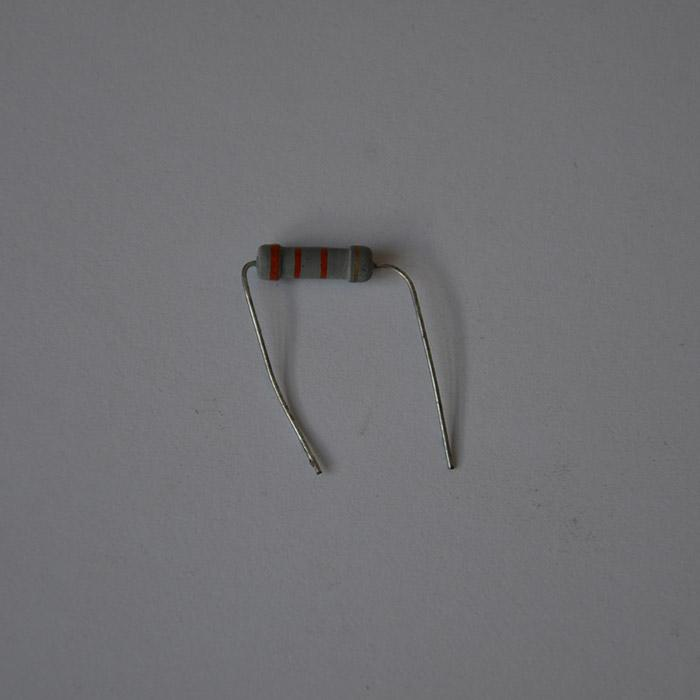resistor: (254, 243, 373, 282)
